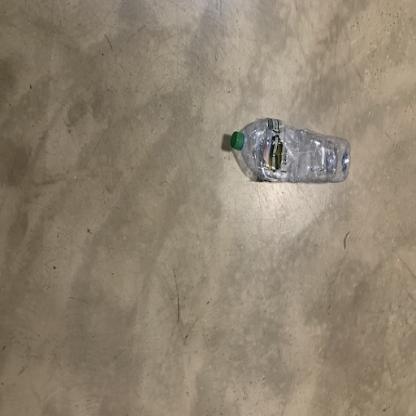trash: (230, 114, 351, 183)
